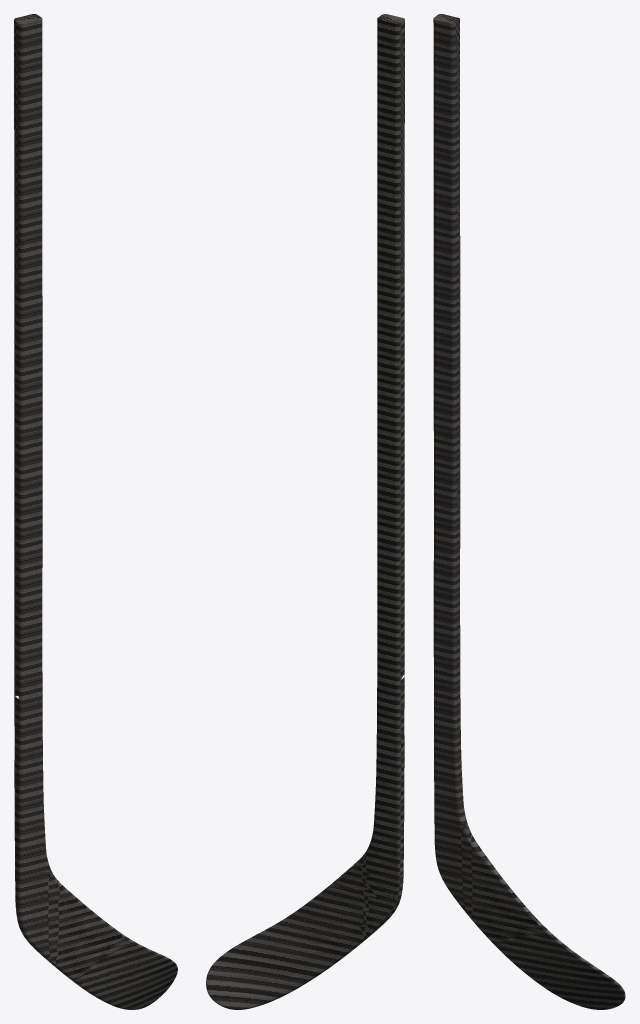
3 views of the same model, side by side, from view 1: azimuth 30°, elevation 25°; view 2: azimuth 150°, elevation 25°; view 3: azimuth 330°, elevation 25° (orthographic). The views are drawn at different scales.
Visible parts, largest first — view 1: geometry_0; view 2: geometry_0; view 3: geometry_0.
Boxes of the visible parts, x1,y1,x2,y2 form: geometry_0: [14, 14, 177, 1009]; geometry_0: [206, 14, 404, 1009]; geometry_0: [433, 14, 625, 1009].
Bounding box in the file's own units: 231 × 1264 × 64.19.
Materials: 1 (1 with a texture image).
